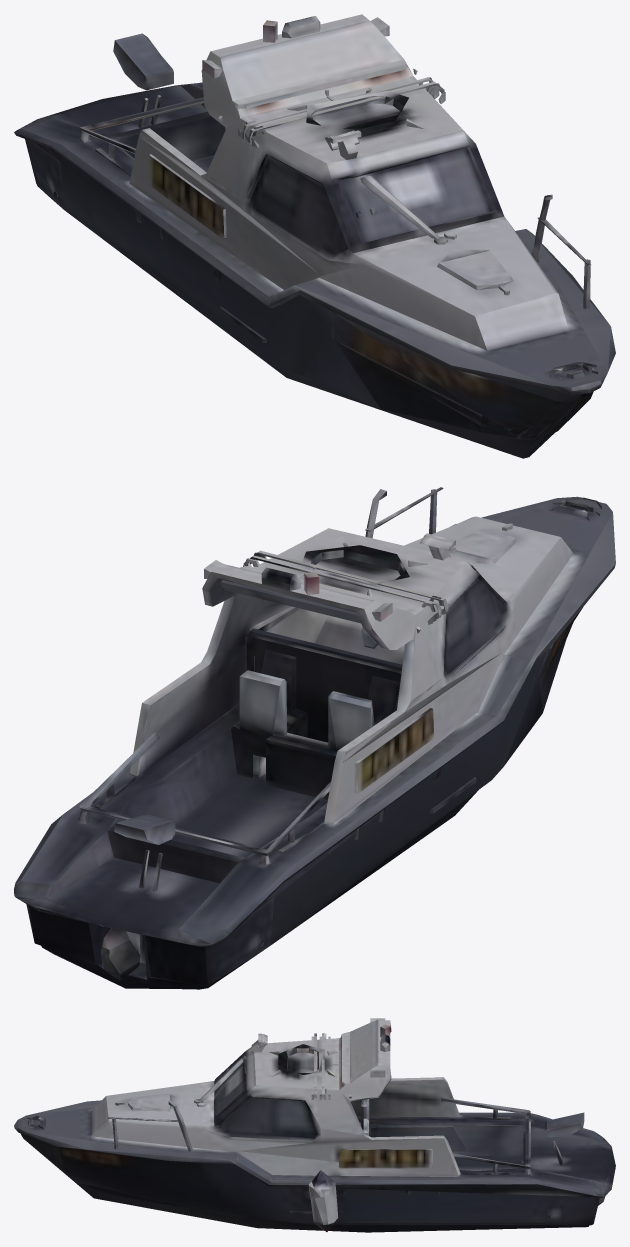
The model's file is kapal_polisi_anim_1_lod2.glb.
3 views of the same model, one above another, from view 1: azimuth 30°, elevation 25°; view 2: azimuth 150°, elevation 25°; view 3: azimuth 270°, elevation 25° (orthographic). The views are drawn at different scales.
Parts seen in each view (by area): view 1: kapal; view 2: kapal; view 3: kapal.
Boxes of the visible parts, x1=… form: kapal: x1=14, y1=14, x2=615, y2=458; kapal: x1=14, y1=487, x2=615, y2=989; kapal: x1=14, y1=1018, x2=615, y2=1232.
Size of the model in its own units: 0.3042 by 0.335 by 1.
1 material, 1 textured.
